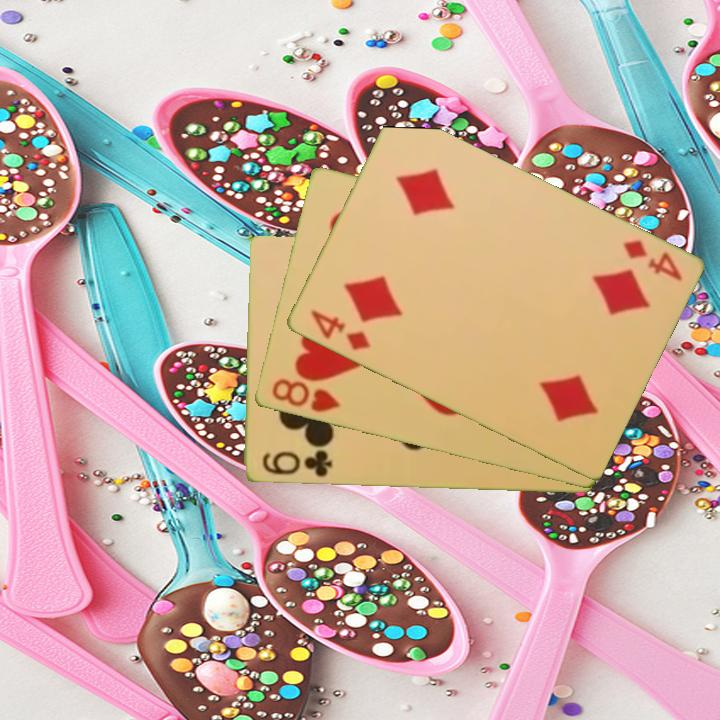4d: (306, 306, 373, 354), (618, 236, 685, 284)
6c: (258, 447, 334, 480)
8h: (267, 376, 343, 416)
